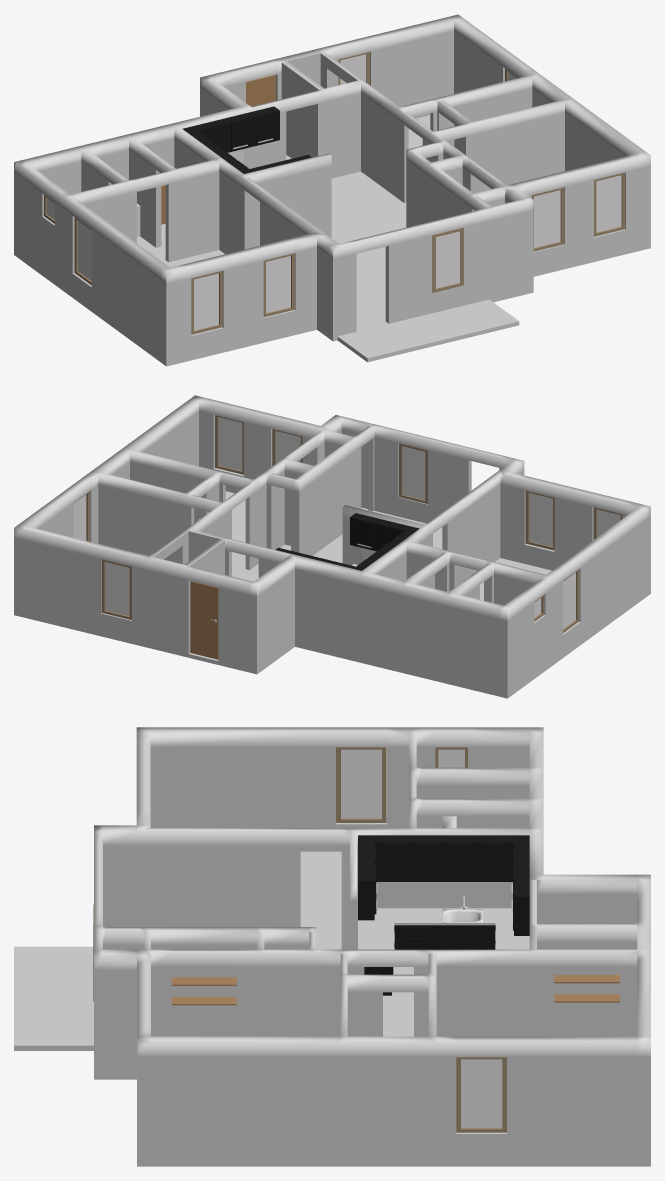
The model's file is NoRoof.fbx.
3 views of the same model, one above another, from view 1: azimuth 30°, elevation 25°; view 2: azimuth 150°, elevation 25°; view 3: azimuth 270°, elevation 25° (orthographic). The views are drawn at different scales.
Parts seen in each view (by area): view 1: house, base, kitchen unit.002, Window.008, Window.004, Window.005, Window.006, Window.007, Window.001, door back, Window.003, cupboard9; view 2: house, base, door back, Window.003, kitchen unit.002, Window.006, Window.008, Window.005, Window.001, Window.002, Window.004, Window.007 (+1 smaller); view 3: house, base, kitchen unit.002, Window.002, Window.001, kitchen unit.001, kitchen unit, cupboard5, cupboard3, cupboard4, cupboard6, Window.
Part boxes in pixels (x1=…): house: x1=14, y1=14, x2=650, y2=362; base: x1=14, y1=115, x2=650, y2=366; kitchen unit.002: x1=182, y1=106, x2=311, y2=173; Window.008: x1=432, y1=227, x2=463, y2=292; Window.004: x1=531, y1=187, x2=564, y2=251; Window.005: x1=594, y1=172, x2=625, y2=236; Window.006: x1=263, y1=253, x2=294, y2=317; Window.007: x1=191, y1=271, x2=222, y2=334; Window.001: x1=74, y1=217, x2=91, y2=284; door back: x1=246, y1=75, x2=275, y2=106; Window.003: x1=338, y1=52, x2=369, y2=85; cupboard9: x1=256, y1=113, x2=274, y2=145; house: x1=14, y1=395, x2=650, y2=694; base: x1=14, y1=491, x2=650, y2=698; door back: x1=190, y1=581, x2=218, y2=659; Window.003: x1=101, y1=559, x2=131, y2=619; kitchen unit.002: x1=275, y1=513, x2=419, y2=570; Window.006: x1=525, y1=491, x2=554, y2=550; Window.008: x1=399, y1=443, x2=427, y2=503; Window.005: x1=215, y1=415, x2=243, y2=474; Window.001: x1=563, y1=569, x2=578, y2=632; Window.002: x1=73, y1=491, x2=89, y2=541; Window.004: x1=272, y1=429, x2=302, y2=465; Window.007: x1=593, y1=507, x2=622, y2=539; house: x1=94, y1=727, x2=650, y2=1161; base: x1=14, y1=851, x2=650, y2=1166; kitchen unit.002: x1=358, y1=835, x2=529, y2=935; Window.002: x1=456, y1=1057, x2=506, y2=1132; Window.001: x1=336, y1=747, x2=386, y2=822; kitchen unit.001: x1=358, y1=908, x2=529, y2=949; kitchen unit: x1=364, y1=925, x2=495, y2=995; cupboard5: x1=448, y1=844, x2=475, y2=881; cupboard3: x1=380, y1=844, x2=406, y2=881; cupboard4: x1=414, y1=844, x2=440, y2=881; cupboard6: x1=482, y1=844, x2=508, y2=881; Window: x1=435, y1=747, x2=467, y2=767.
Bounding box in the file's own units: 1393 × 255 × 1189.
